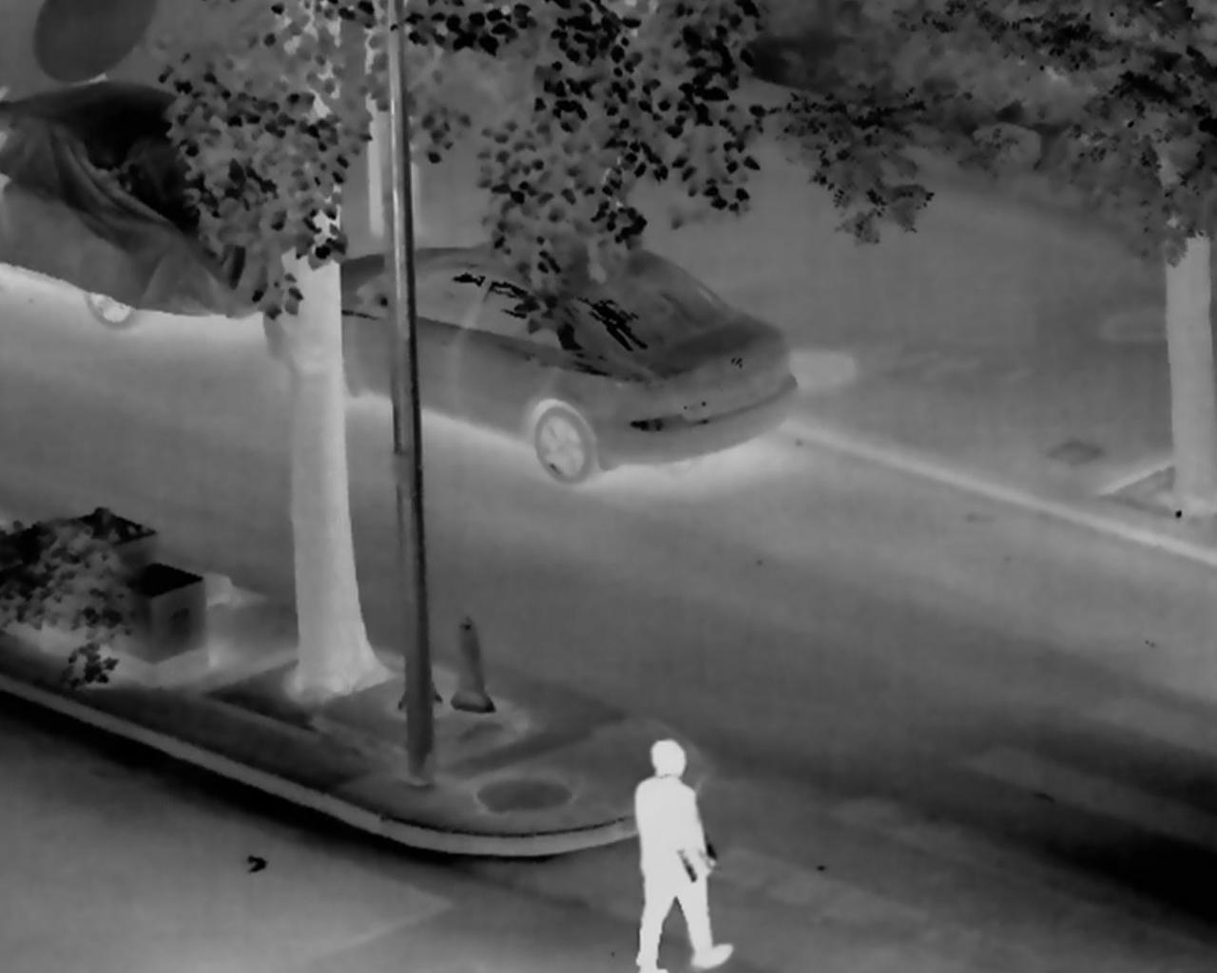person: (635, 735, 735, 973)
